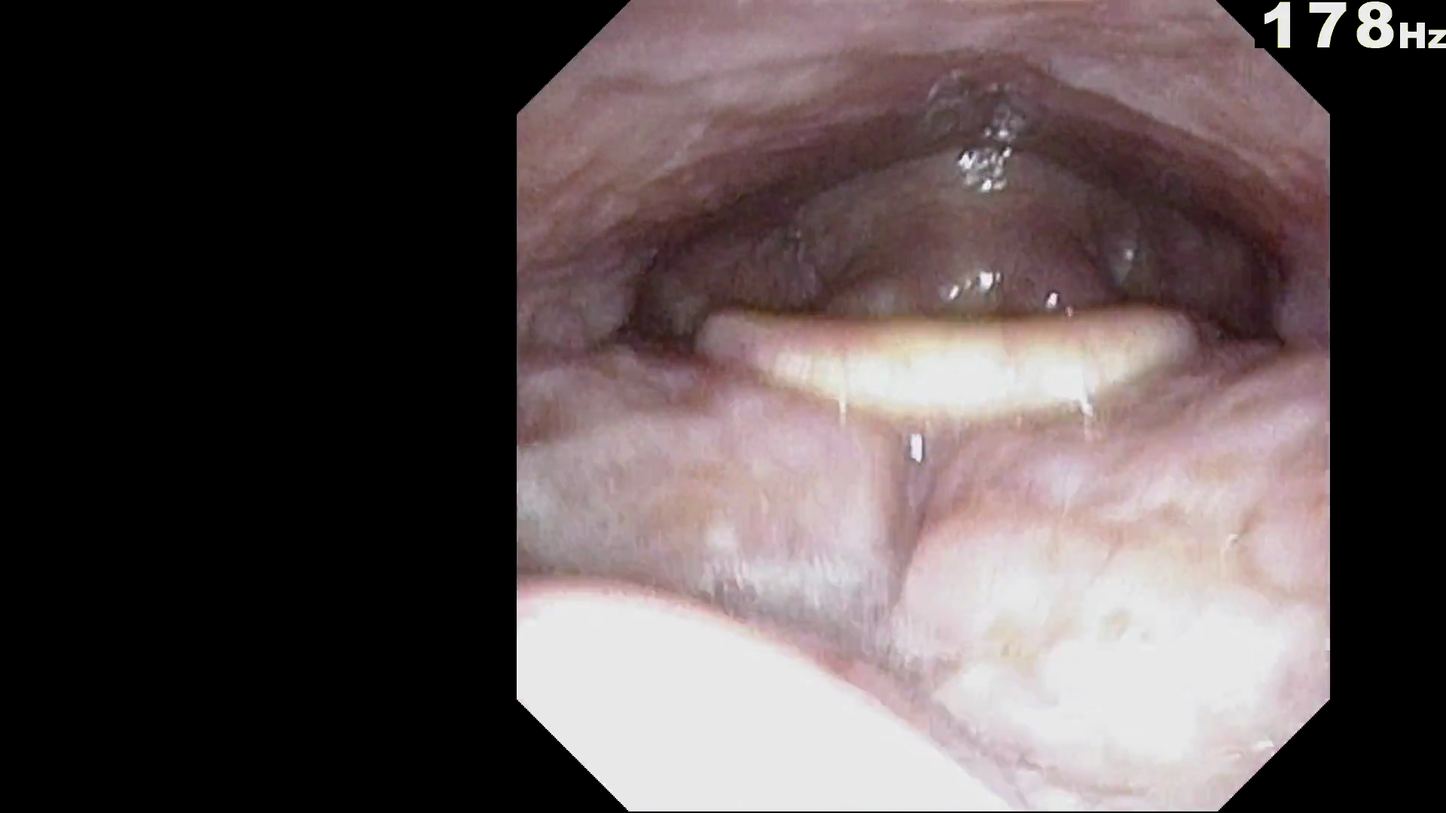epiglottis: (663, 276, 1235, 500)
